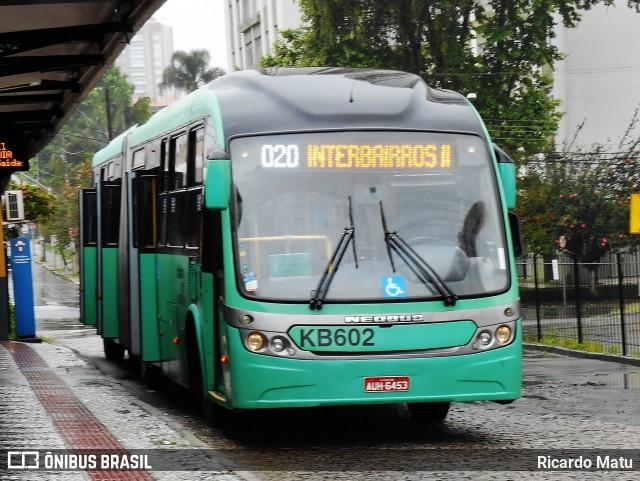INTERBAIRROS II: (302, 138, 457, 173)
